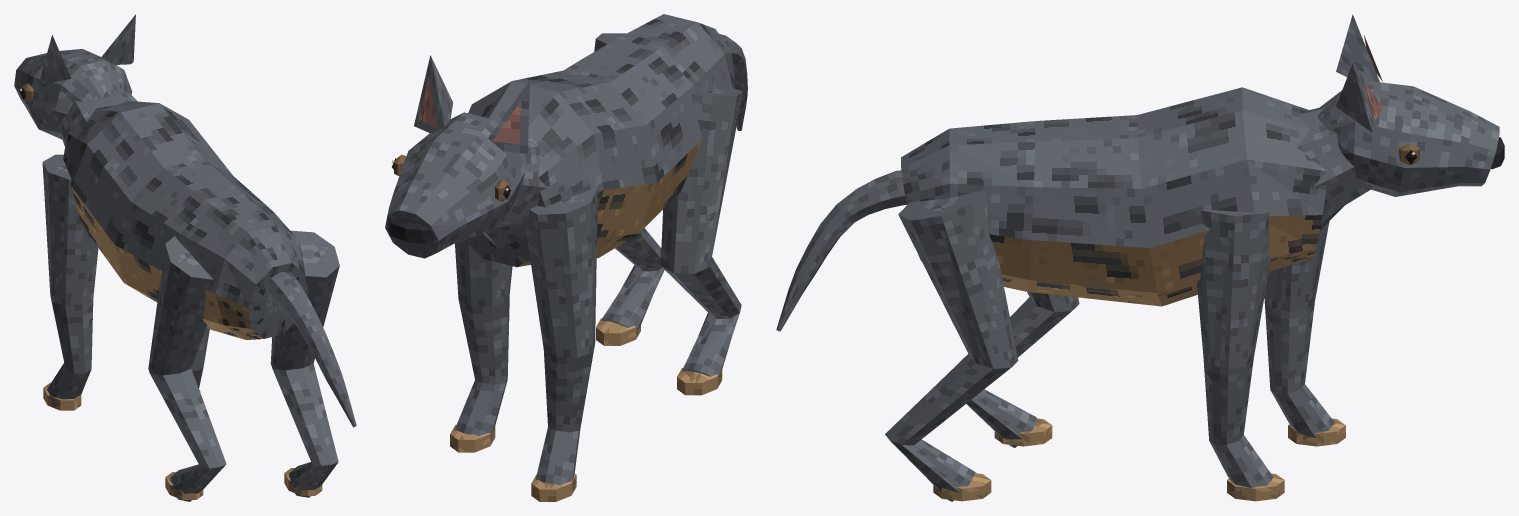
File: mon_dog_auscattle.glb
3 renders of one model, left to right at view 1: azimuth 30°, elevation 25°; view 2: azimuth 150°, elevation 25°; view 3: azimuth 270°, elevation 25°, orthographic. The views are drawn at different scales.
Parts seen in each view (by area): view 1: closed_body; view 2: closed_body; view 3: closed_body.
Part boxes in pixels (left/top/right/bottom): closed_body: left=14, top=14, right=356, bottom=501; closed_body: left=385, top=14, right=747, bottom=501; closed_body: left=776, top=14, right=1504, bottom=501.
Bounding box in the file's own units: 0.3454 × 0.862 × 1.31.
1 material, 1 textured.
